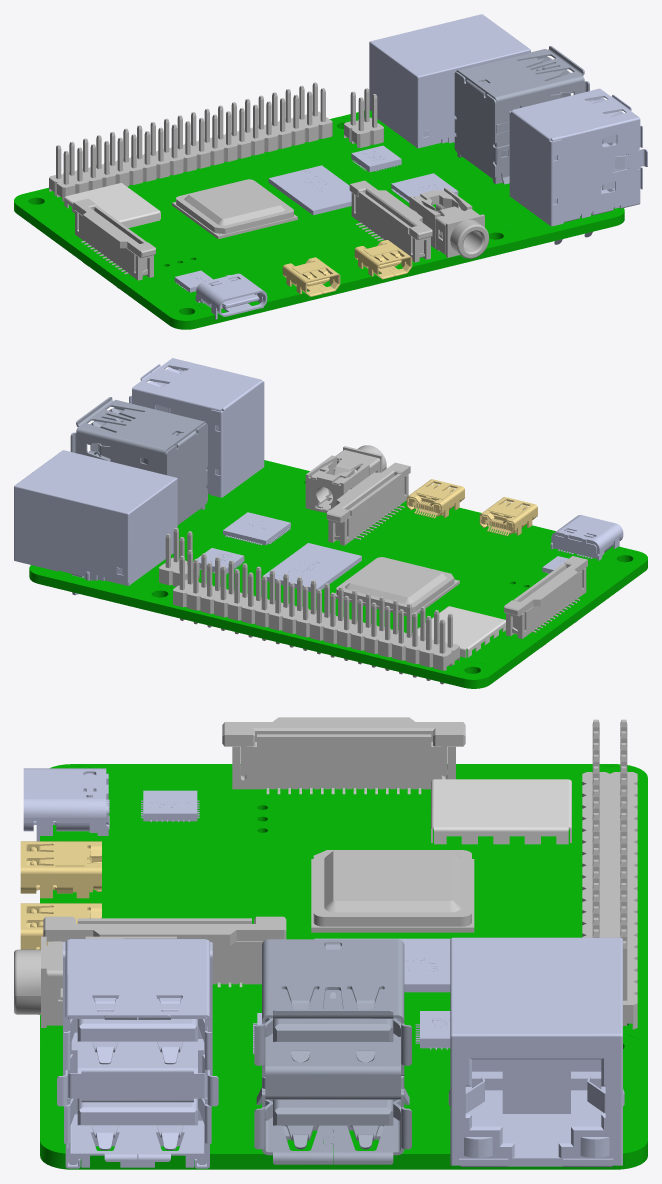
3 views of the same model, one above another, from view 1: azimuth 30°, elevation 25°; view 2: azimuth 150°, elevation 25°; view 3: azimuth 270°, elevation 25° (orthographic). The views are drawn at different scales.
Parts seen in each view (by area): view 1: Base, USB_2, Ethernet, USB3, empty_10, Quad_core, Audio_port, Memory_chip, empty_66, Wifi_Bluetooth, Power_supply, empty_88 (+8 smaller); view 2: Base, Ethernet, USB_2, USB3, empty_10, Quad_core, Audio_port, Memory_chip, empty_66, Power_supply, empty_88, Wifi_Bluetooth (+7 smaller); view 3: Base, Ethernet, USB_2, USB3, Quad_core, empty_88, Wifi_Bluetooth, empty_10, Power_supply, empty_89, Micro_HDMI_1, empty_67 (+6 smaller).
Boxes of the visible parts, <box> form: Base: <box>14,110,624,329</box>; USB_2: <box>509,88,647,244</box>; Ethernet: <box>369,14,530,148</box>; USB3: <box>454,46,589,184</box>; empty_10: <box>49,111,332,201</box>; Quad_core: <box>172,179,297,239</box>; Audio_port: <box>409,187,489,258</box>; Memory_chip: <box>268,165,351,215</box>; empty_66: <box>351,191,430,262</box>; Wifi_Bluetooth: <box>64,183,160,228</box>; Power_supply: <box>195,273,267,319</box>; empty_88: <box>75,206,153,280</box>; Base: <box>29,460,647,688</box>; Ethernet: <box>14,450,177,595</box>; USB_2: <box>129,358,264,497</box>; USB3: <box>70,397,207,524</box>; empty_10: <box>173,579,459,670</box>; Quad_core: <box>335,557,459,617</box>; Audio_port: <box>305,445,386,512</box>; Memory_chip: <box>263,543,361,592</box>; empty_66: <box>328,473,408,545</box>; Power_supply: <box>550,515,623,560</box>; empty_88: <box>506,563,586,638</box>; Wifi_Bluetooth: <box>412,606,505,657</box>; Base: <box>40,764,647,1169</box>; Ethernet: <box>448,937,624,1166</box>; USB_2: <box>57,939,218,1168</box>; USB3: <box>254,939,411,1164</box>; Quad_core: <box>311,850,474,932</box>; empty_88: <box>232,734,455,789</box>; Wifi_Bluetooth: <box>431,779,571,844</box>; empty_10: <box>582,772,637,1029</box>; Power_supply: <box>23,768,109,841</box>; empty_89: <box>222,717,465,776</box>; Micro_HDMI_1: <box>20,841,101,898</box>; empty_67: <box>43,916,286,946</box>.
Size of the model in its own units: 0.089 by 0.0199 by 0.0584.
